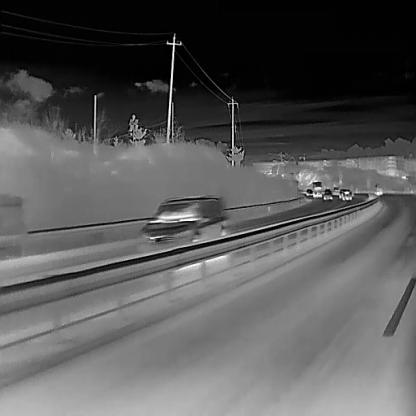car: (136, 194, 229, 252), (340, 188, 352, 200), (322, 188, 333, 200), (373, 183, 383, 196), (331, 186, 340, 195), (338, 188, 346, 198), (304, 188, 313, 196)
truck: (311, 180, 323, 198)
